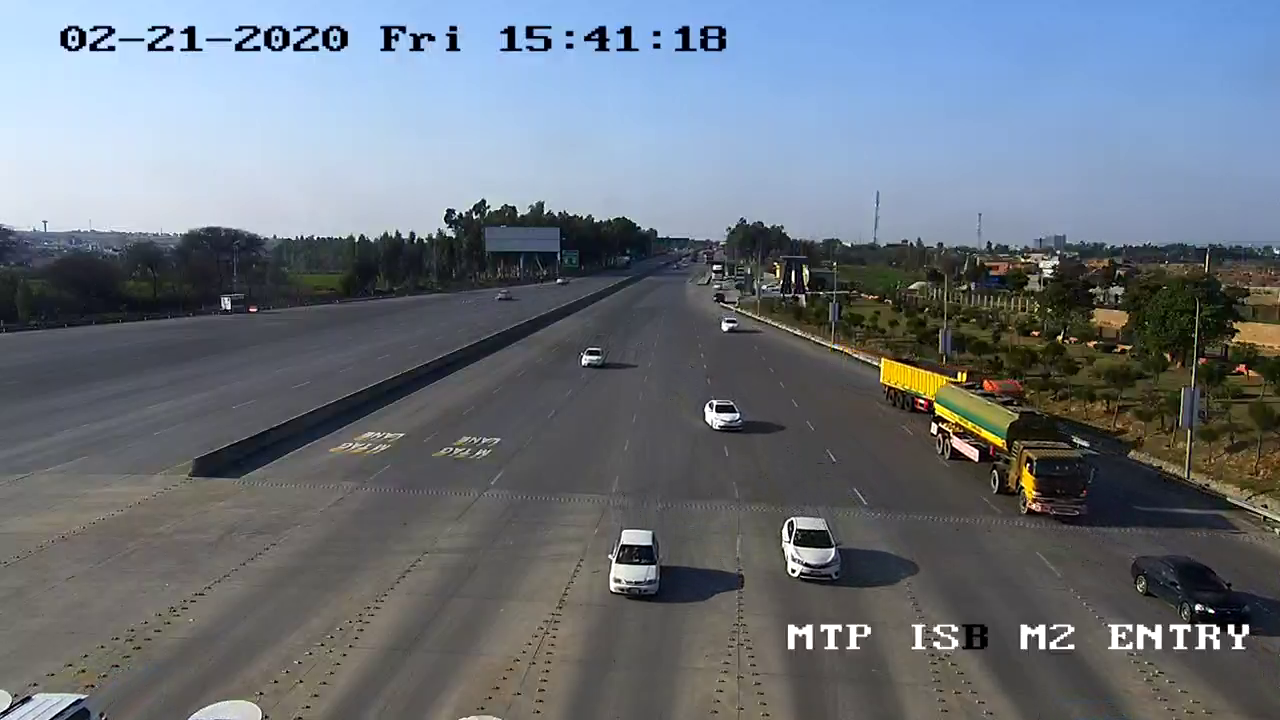f1: (776, 506, 851, 580), (610, 521, 667, 603), (691, 378, 754, 441)
f6: (926, 375, 1108, 531)
